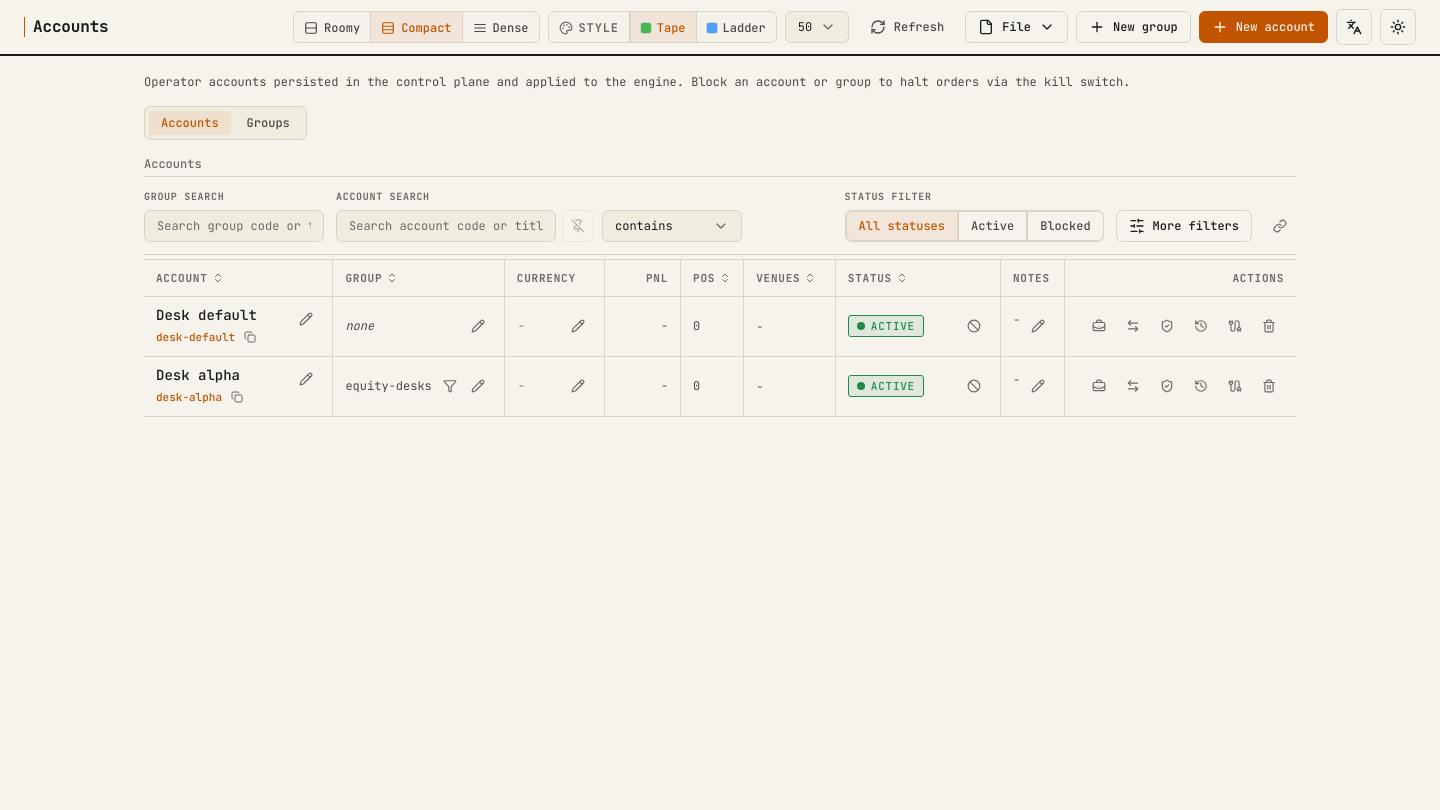
Test: DeleteAccountConfirm › warns about trading fees even when credentials are sealed
What coordinates should you click on to do the following:
click the button named "Delete desk-alpha"
I would click on:
 (1269, 386)
Its box is top-left (1254, 371), bottom-right (1284, 401).
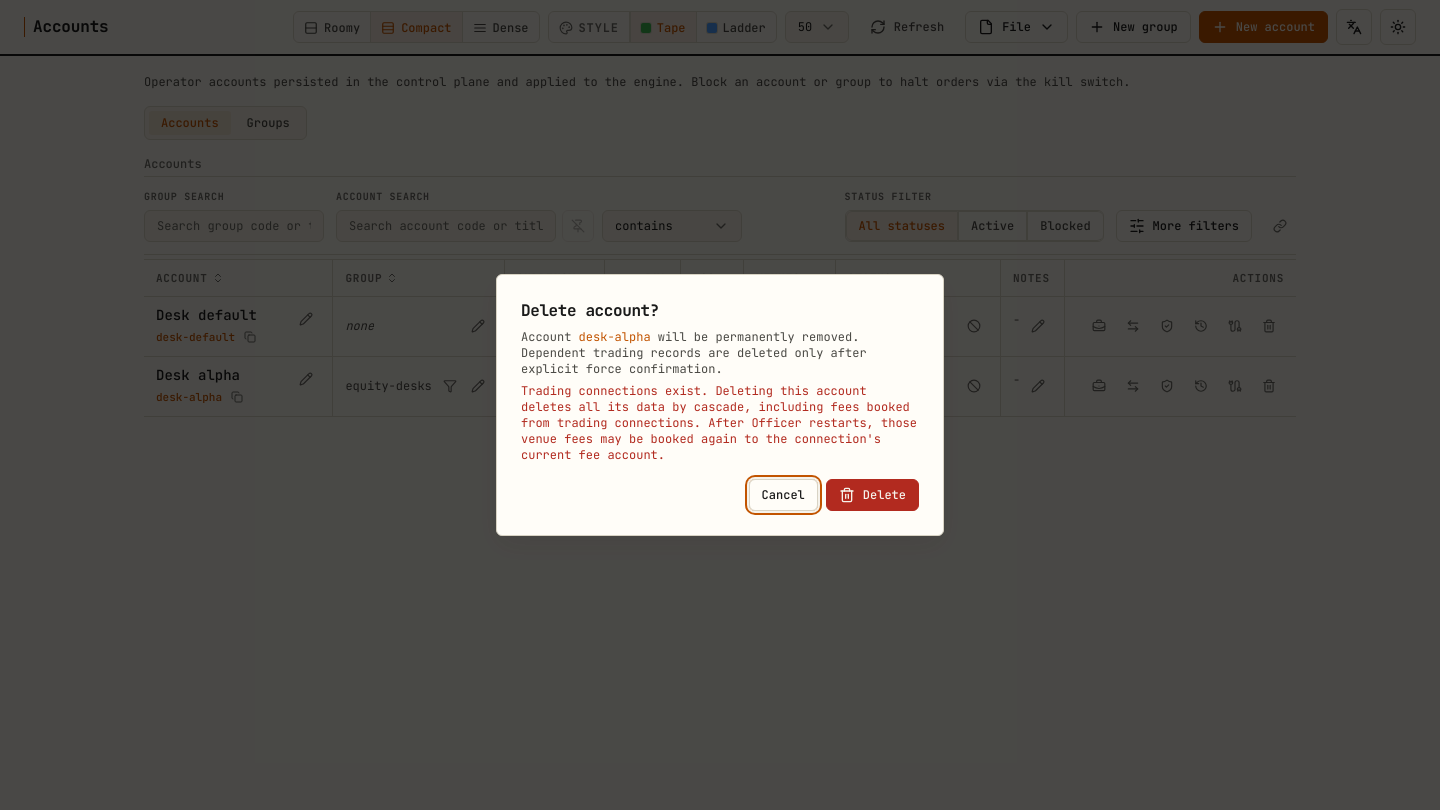
Now the text "Trading connections exist. Deleting this account deletes all its data by cascade, including fees booked from trading con" is shown, box top-left (521, 383), bottom-right (917, 463)
Now the button "Delete" is enabled, box top-left (826, 479), bottom-right (919, 511)
